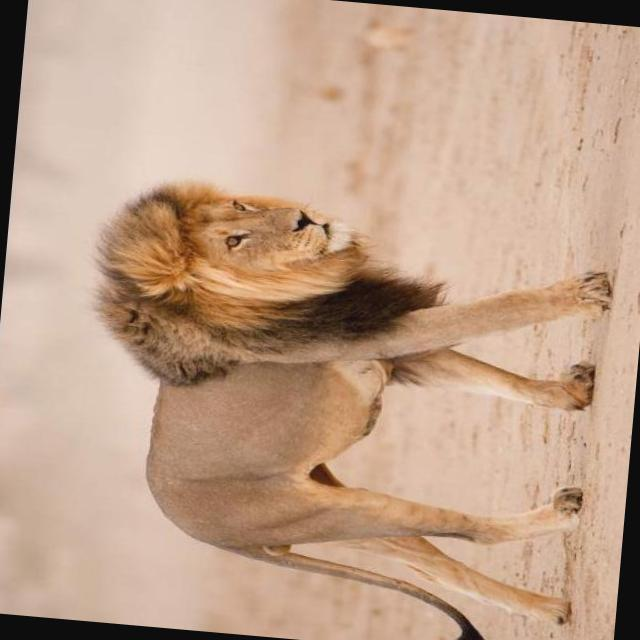lions: (39, 127, 640, 640)
